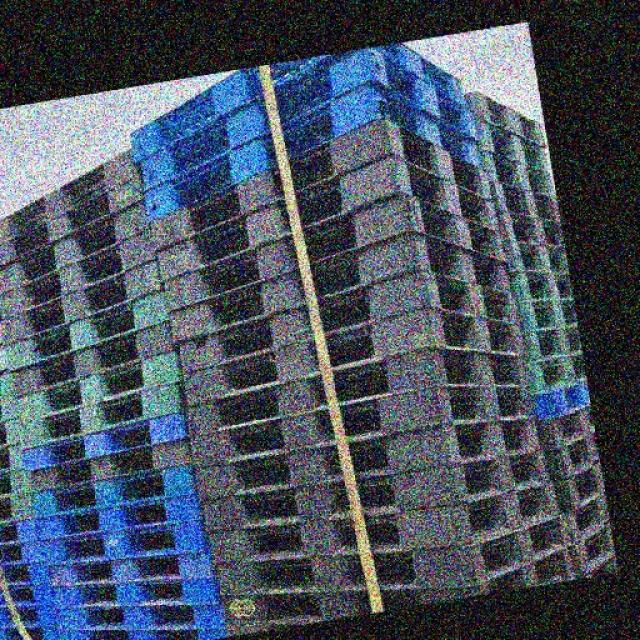non-igps: (131, 39, 484, 210), (137, 68, 483, 238), (149, 143, 505, 294), (143, 112, 500, 259), (168, 256, 528, 389), (160, 224, 521, 353), (174, 296, 526, 416), (202, 464, 569, 572), (128, 9, 367, 170), (195, 439, 558, 540), (209, 504, 576, 603), (210, 536, 581, 633), (192, 407, 547, 507), (183, 378, 541, 473), (0, 276, 178, 382), (0, 218, 163, 329), (0, 192, 161, 303), (0, 248, 172, 350), (7, 312, 185, 410), (0, 161, 150, 271), (0, 142, 148, 253), (8, 341, 188, 432), (14, 369, 191, 456), (24, 448, 202, 528), (17, 402, 197, 479), (24, 426, 198, 498), (29, 484, 212, 548), (36, 509, 212, 572), (43, 542, 223, 594), (49, 564, 228, 616), (58, 587, 230, 635), (459, 86, 552, 152), (470, 114, 556, 179), (476, 144, 559, 206), (486, 173, 566, 230), (520, 345, 596, 404), (50, 617, 234, 640), (537, 424, 607, 484), (529, 399, 600, 458), (496, 229, 576, 281), (565, 512, 621, 586), (526, 373, 598, 430), (546, 457, 612, 519), (558, 488, 620, 550), (499, 261, 579, 309), (492, 204, 570, 253), (516, 318, 587, 371), (514, 293, 584, 338)
